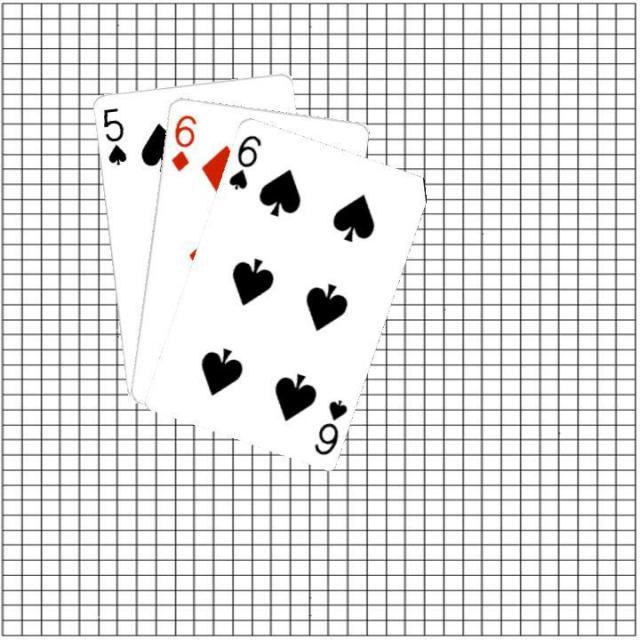5S: (98, 103, 128, 166)
6D: (167, 110, 198, 172)
6S: (310, 395, 350, 457), (224, 130, 263, 192)
